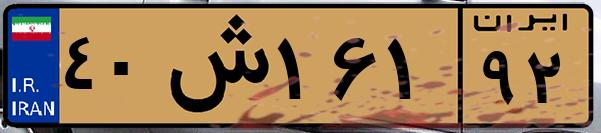0: (110, 28, 158, 98)
1: (270, 28, 330, 110), (385, 28, 445, 110)
2: (525, 38, 570, 115)
4: (57, 26, 110, 100)
6: (330, 28, 385, 110)
9: (475, 38, 525, 113)
ش: (158, 12, 270, 120)
